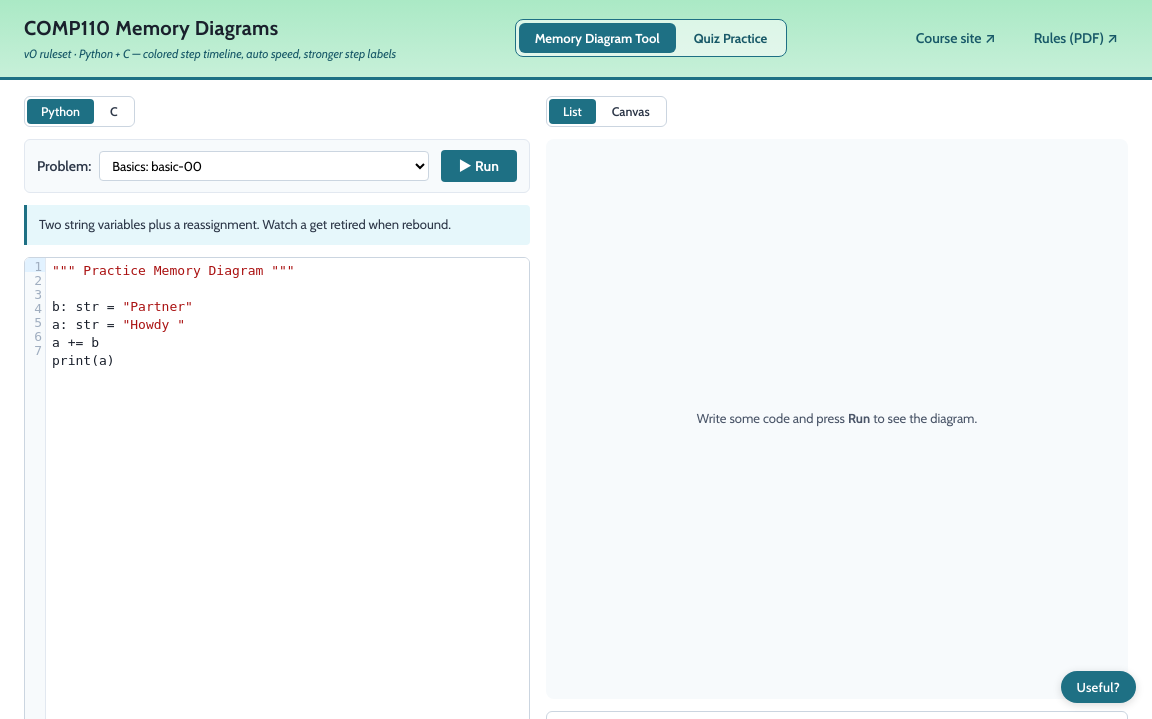
Test: App UX — Run flow and Prev/Next bounds › after Run: step label updates; Prev disabled at step 0
Click the button "▶ Run" at (479, 166), box [440,150,517,182]
(page scrolled)
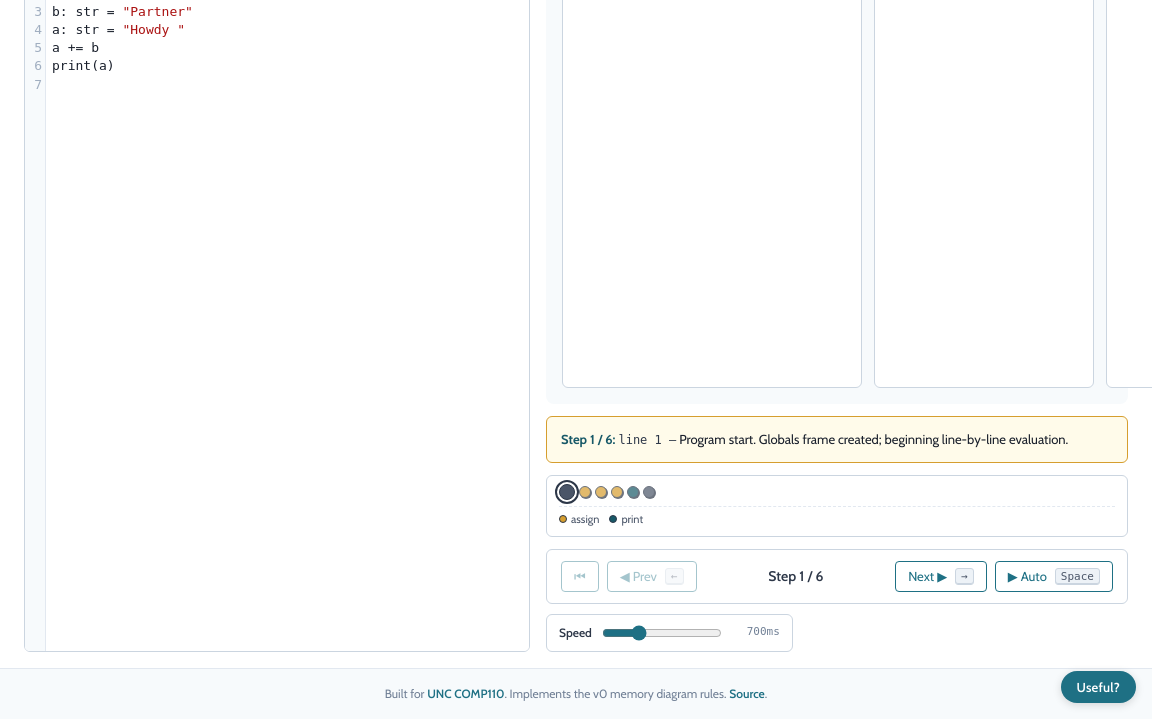
Expected: the button "◀ Prev ←" is disabled, [607,561,696,592]
Now the text "Step 1 / 6:" is shown, box [561,431,616,447]
Now the button "Next ▶ →" is enabled, box [895,561,987,592]
